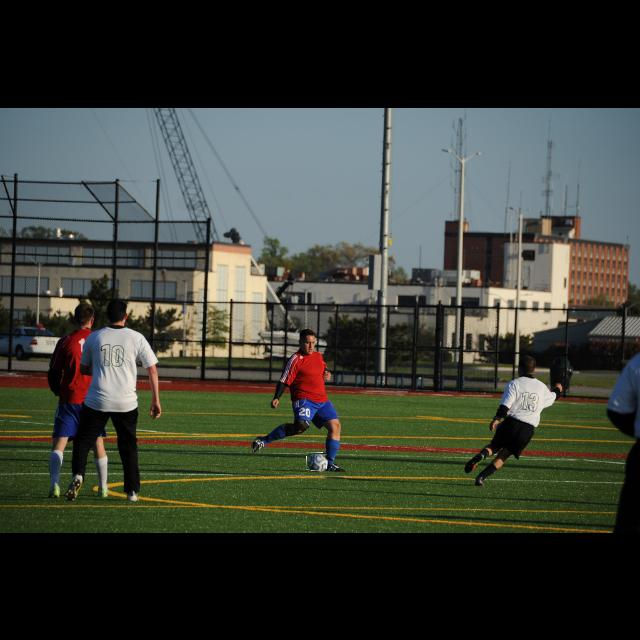Football: (307, 453, 327, 471)
